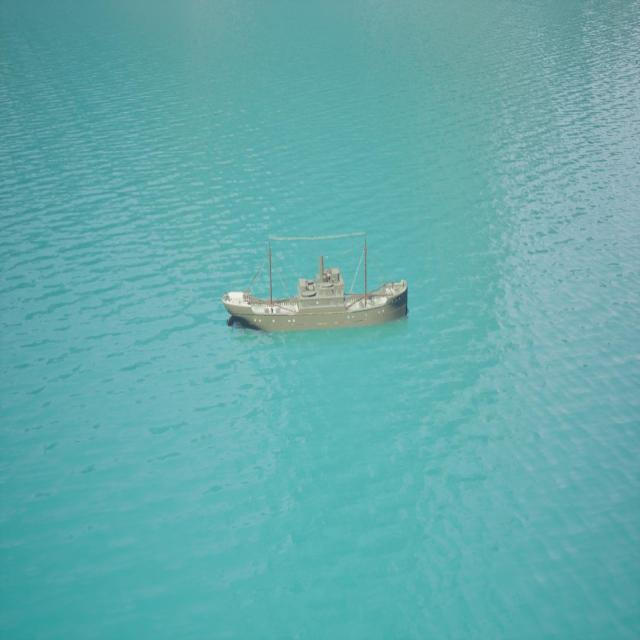fishing ship: (225, 231, 410, 338)
